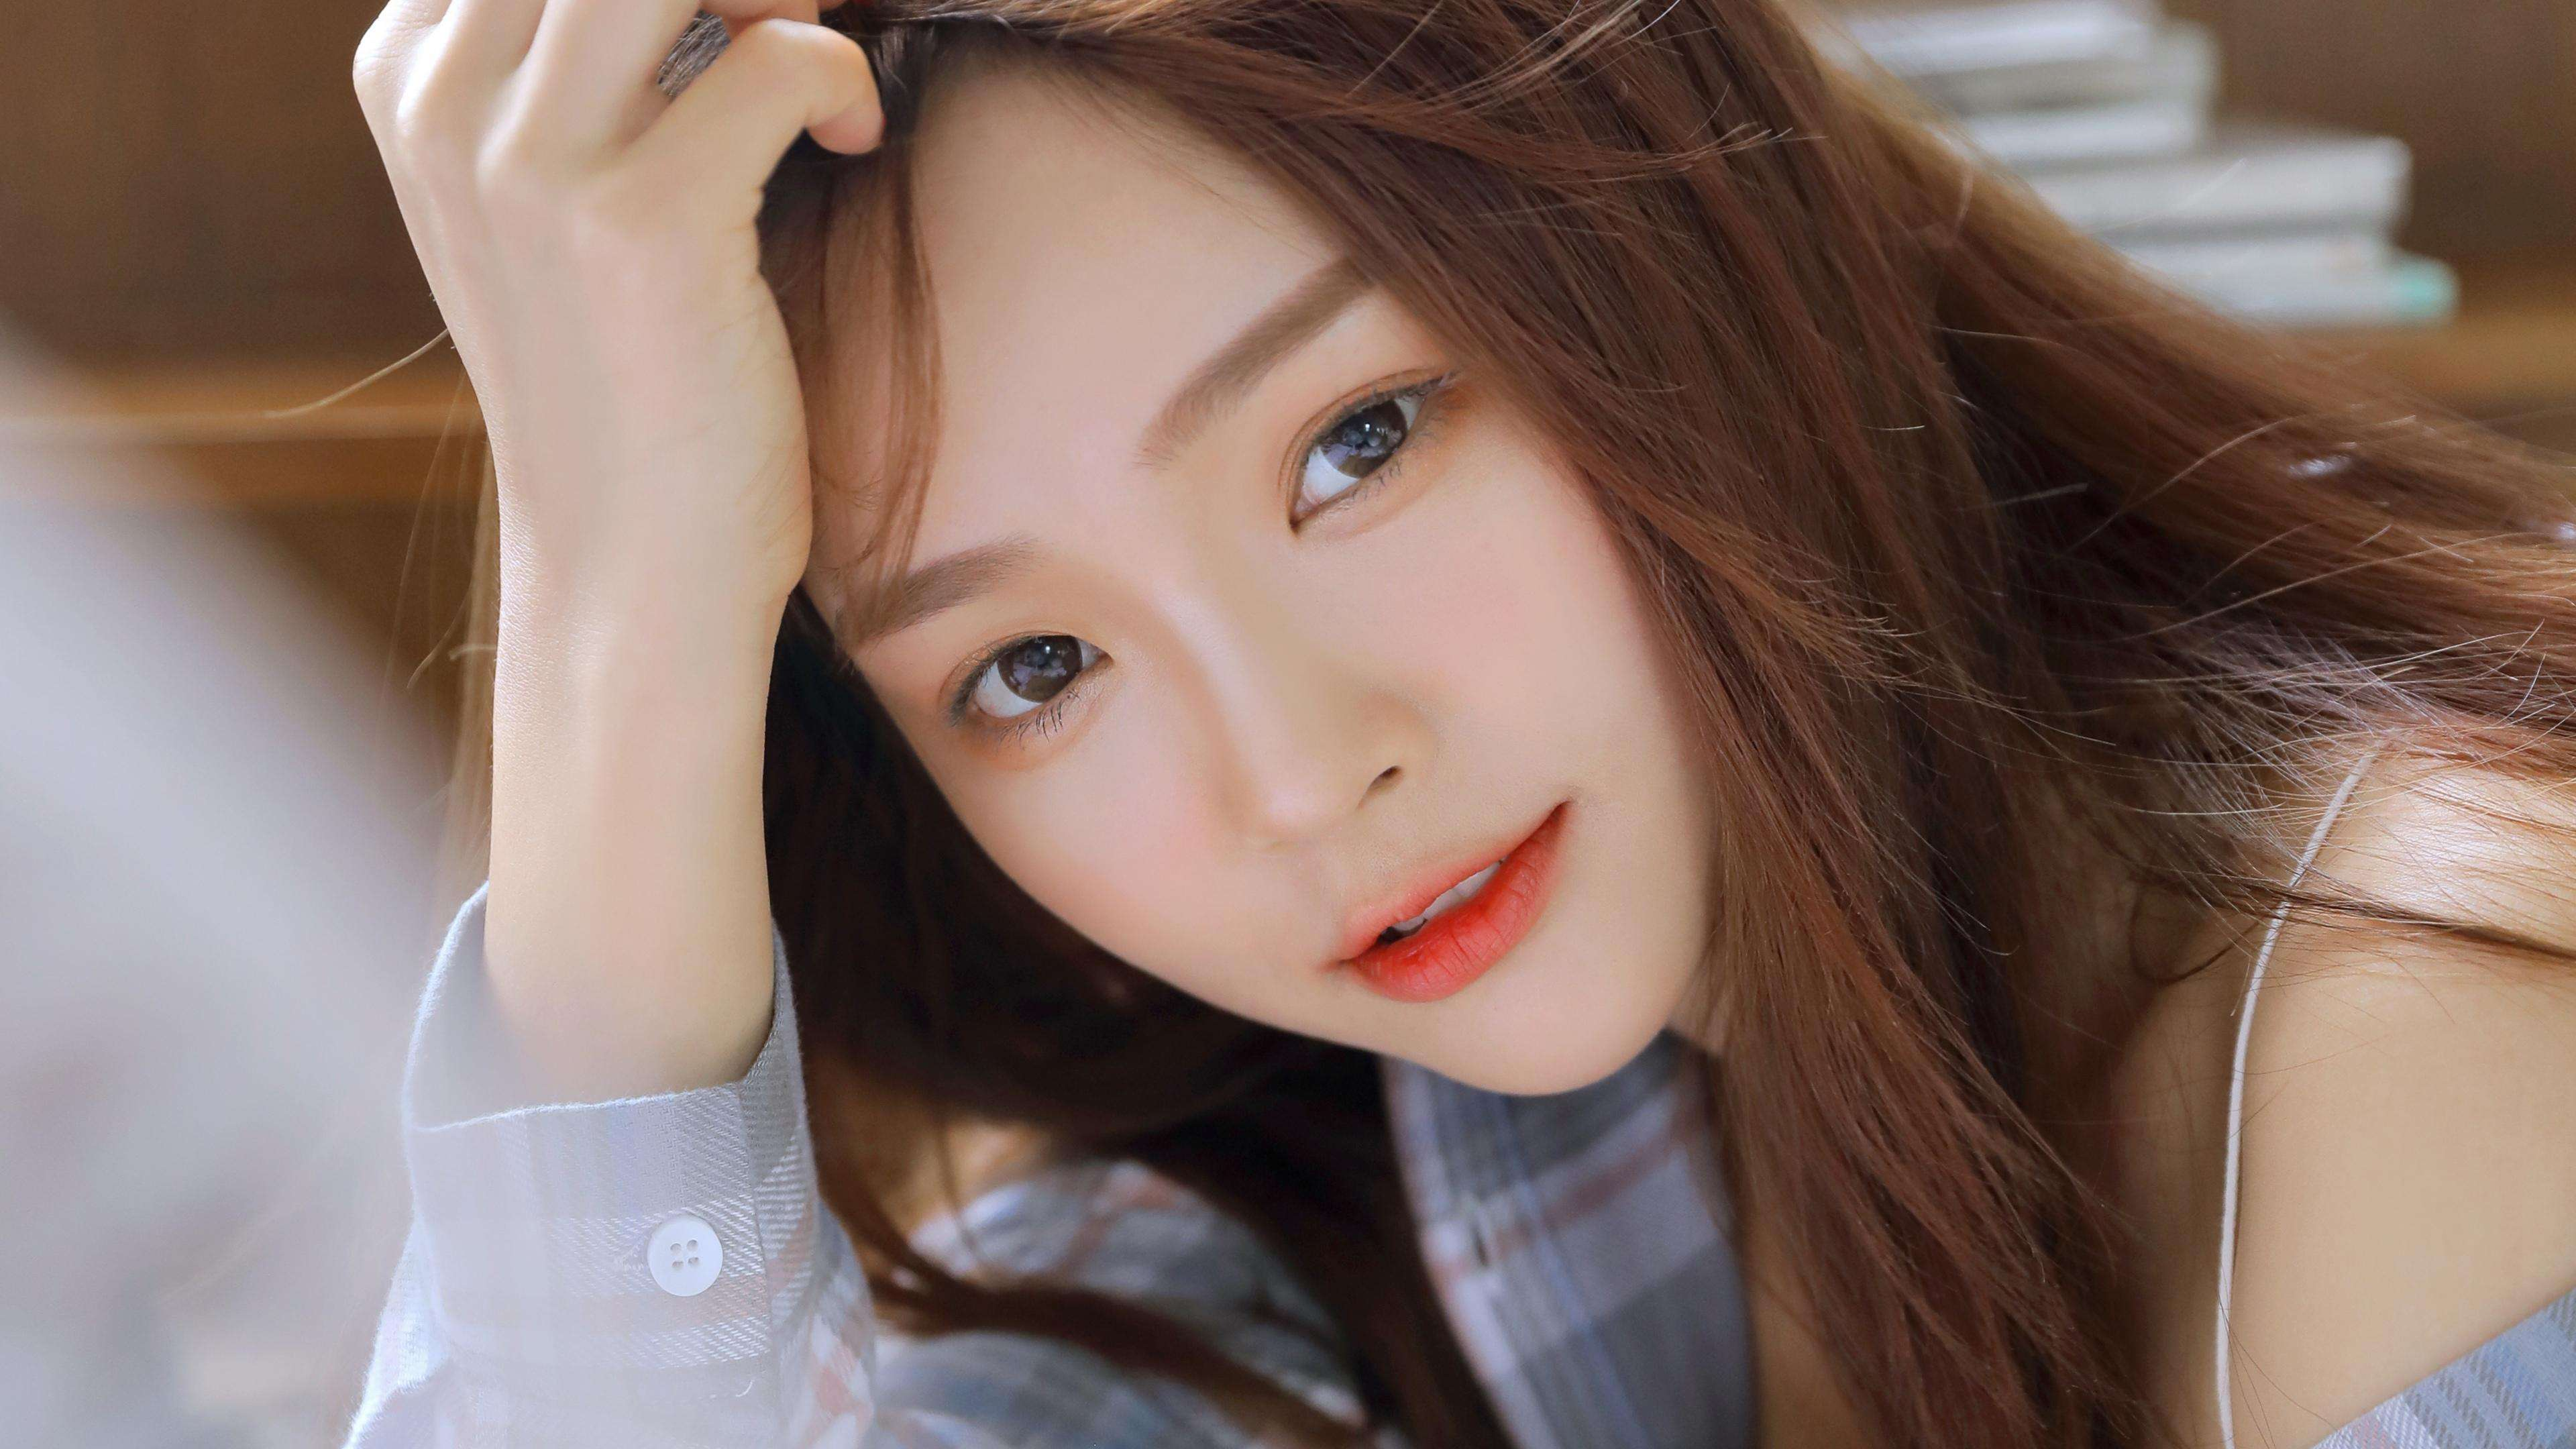person: (335, 14, 2485, 1197)
